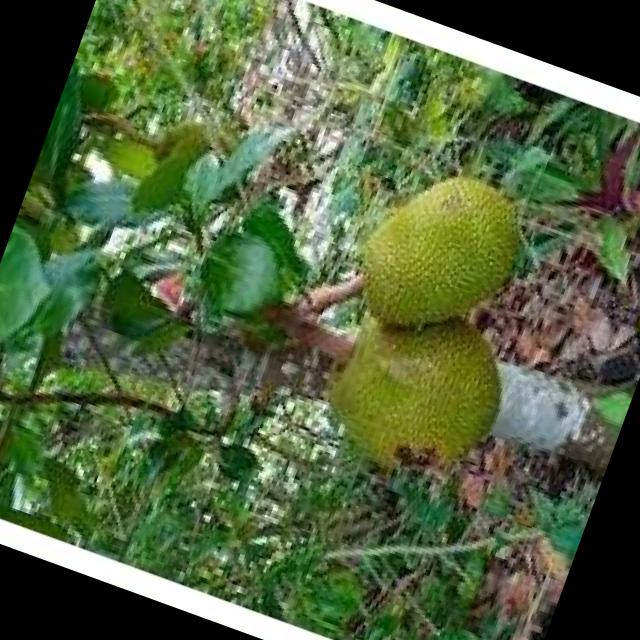Fruit: (293, 250, 556, 518), (321, 134, 558, 380)
